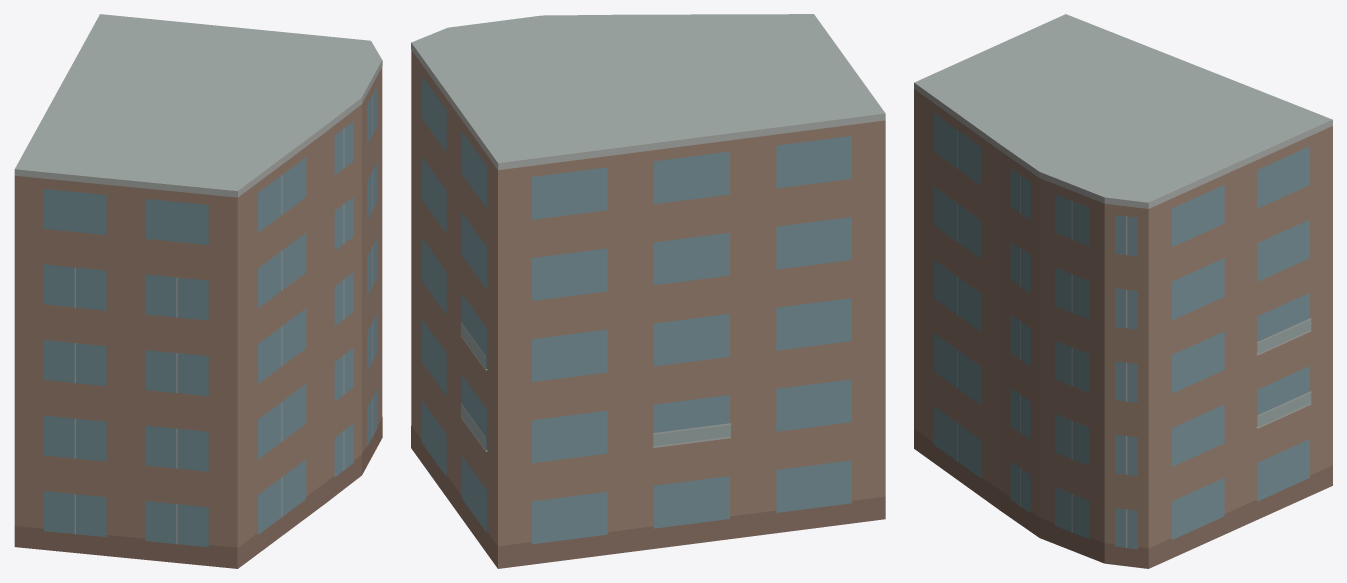
The model's file is survey-upis-32871354.glb.
The picture shows the model from 3 angles, left to right: view 1: azimuth 30°, elevation 25°; view 2: azimuth 150°, elevation 25°; view 3: azimuth 270°, elevation 25°; orthographic projection. The views are drawn at different scales.
Parts seen in each view (by area): view 1: survey-upis-32871354.tmp; view 2: survey-upis-32871354.tmp; view 3: survey-upis-32871354.tmp.
Boxes of the visible parts, x1,y1,x2,y2 form: survey-upis-32871354.tmp: [14, 14, 382, 568]; survey-upis-32871354.tmp: [411, 14, 885, 568]; survey-upis-32871354.tmp: [914, 14, 1332, 568].
Bounding box in the file's own units: 15.88 × 14.35 × 14.88.
